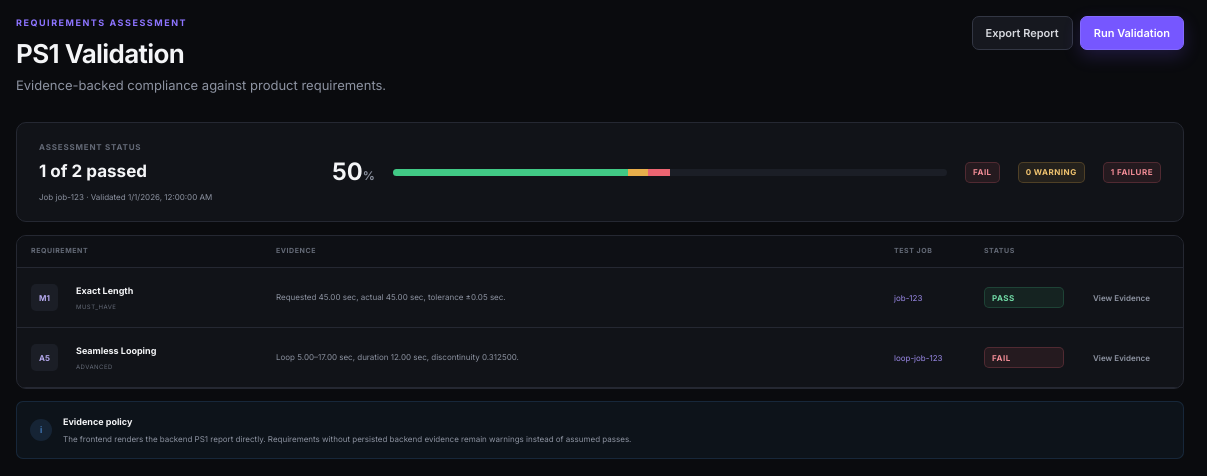
it: Validation page › reruns backend validation and refreshes the rendered results
The image size is (1207, 476).
Expected: the text "Loop 5.00–17.00 sec, duration 12.00 sec, discontinuity 0.312500." is shown, [276,352,519,362]
Click the button "Run Validation": (1132, 33) [1080,16,1184,50]
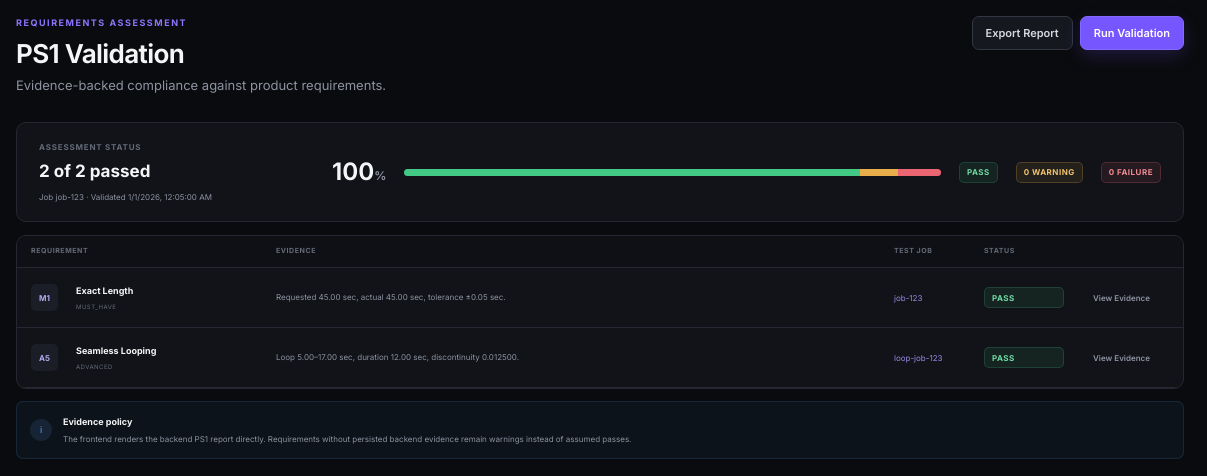
Expected: the text "Loop 5.00–17.00 sec, duration 12.00 sec, discontinuity 0.012500." is shown, [276,352,519,362]
